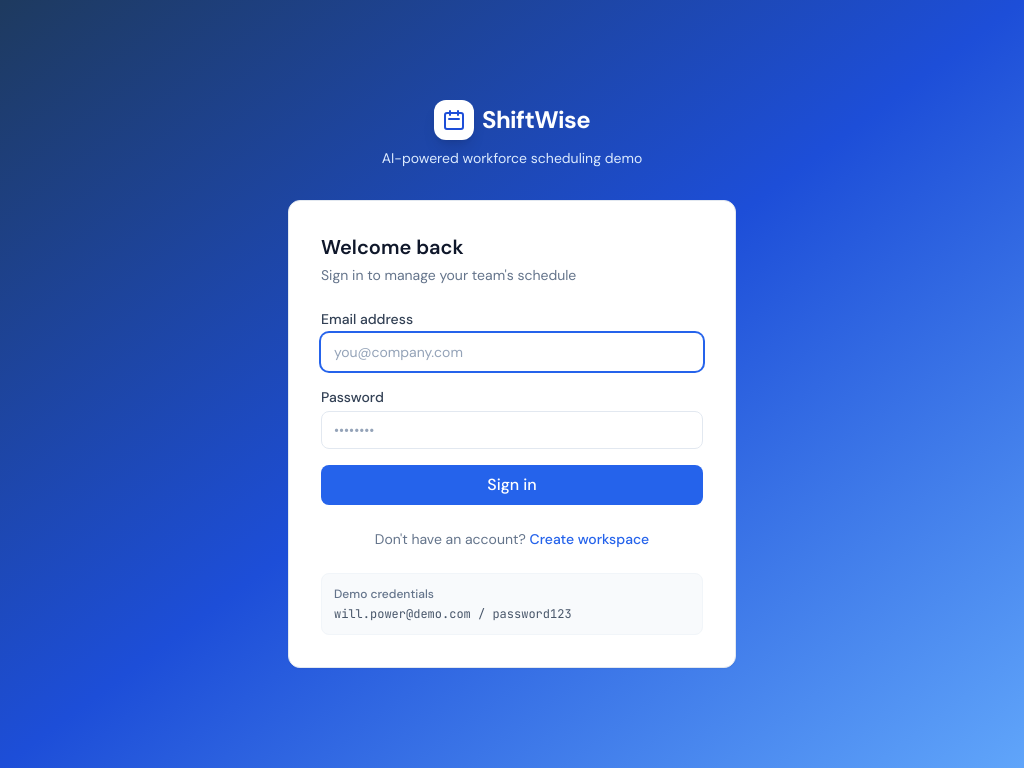
Test case: LoginPage › shows generic error when no error message returned
In the field with placeholder "you@company.com": [512, 352] box [321,333,703,371], type "will.power@demo.com"
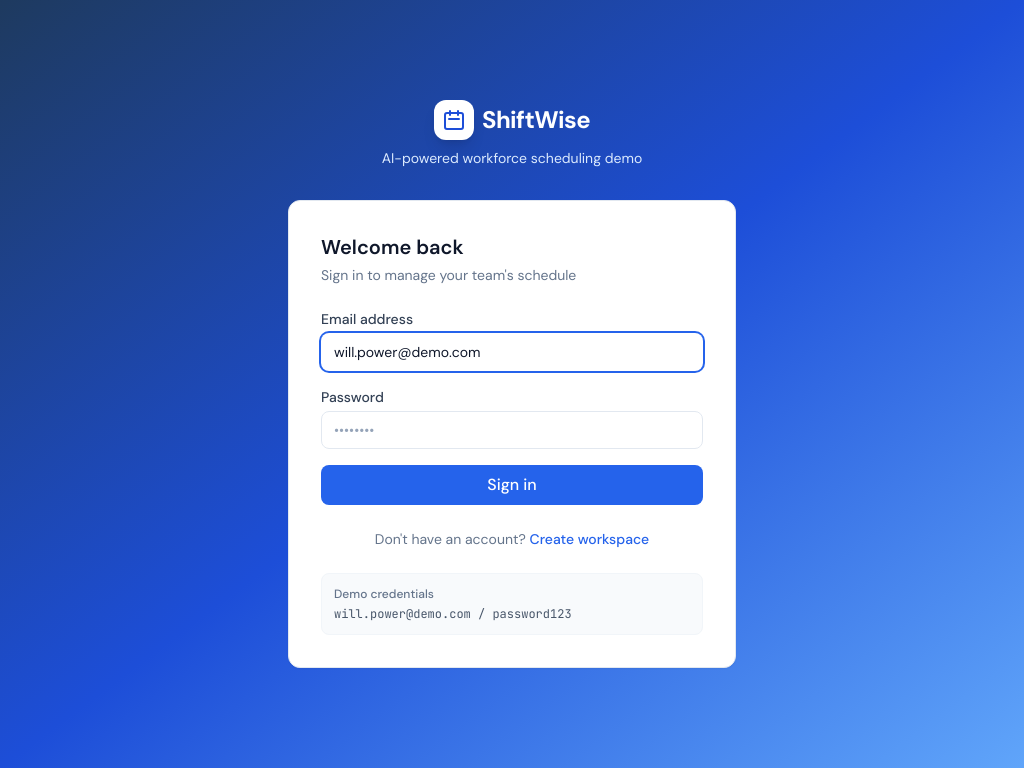
In the password field with placeholder "••••••••": [512, 430] box [321,411,703,449], type "password123"
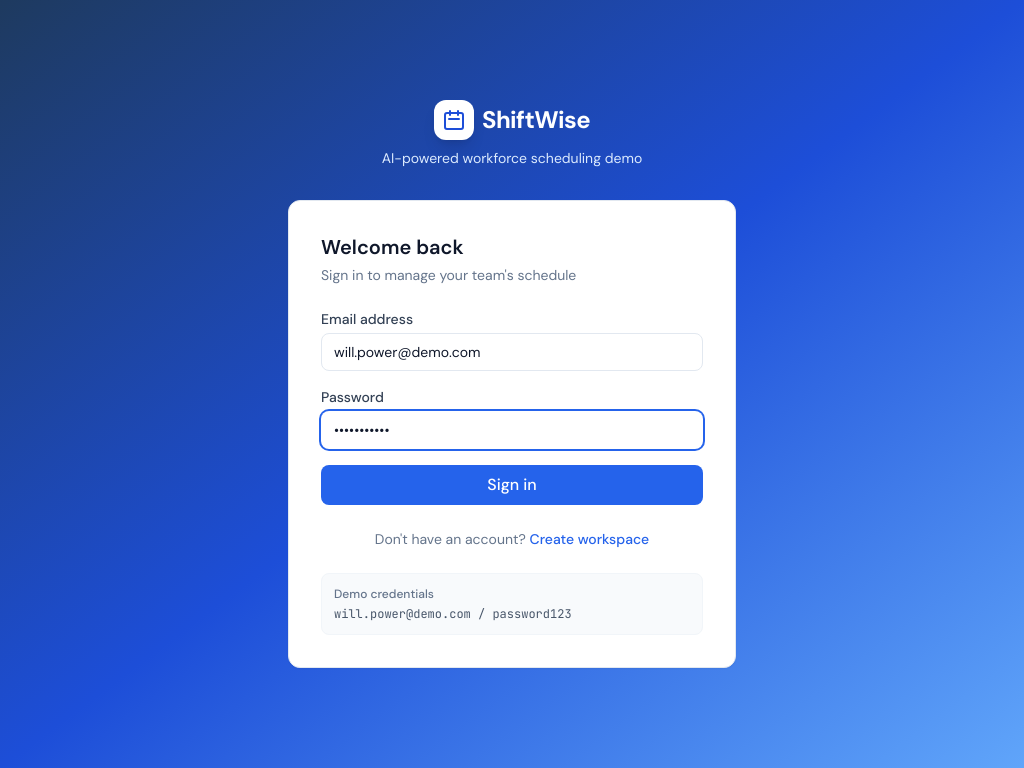
Click the button "Sign in": [512, 485] box [321,465,703,505]
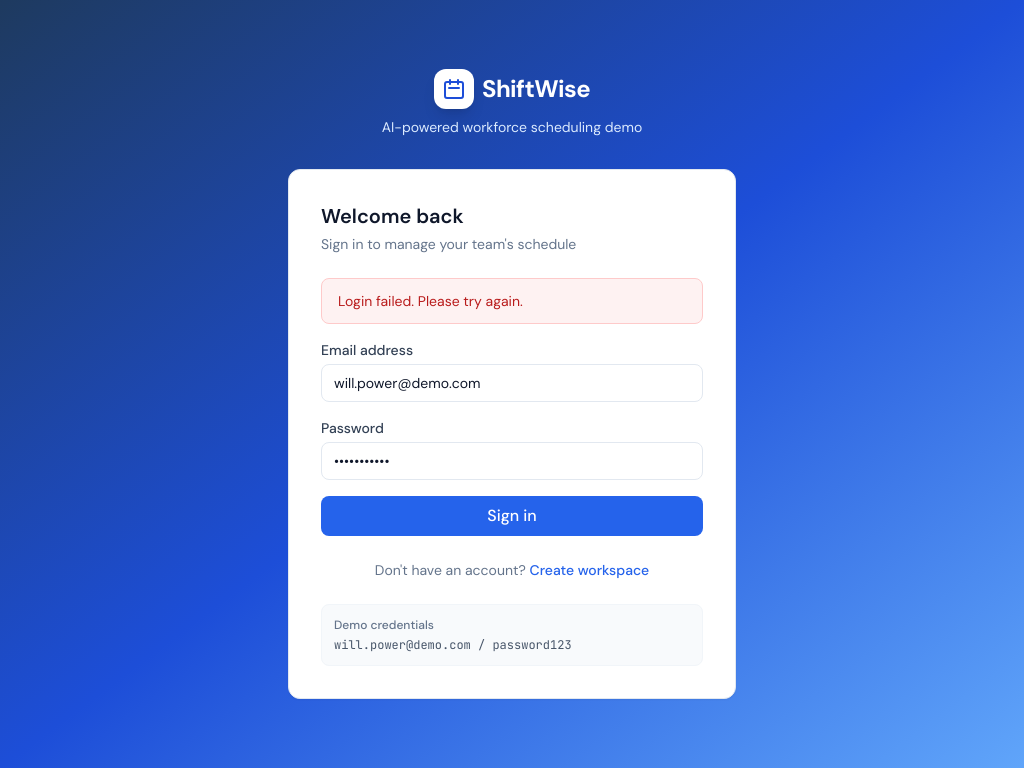
Expected: the text "Login failed. Please try again." is shown, [321,278,703,324]
